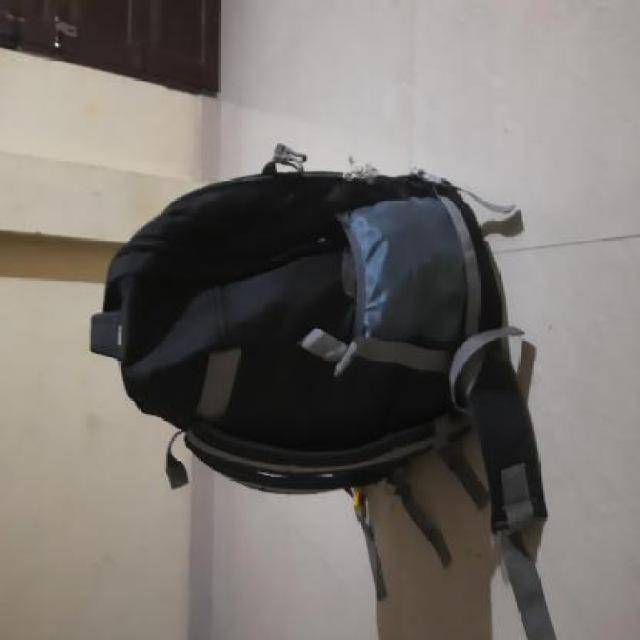backpack: (85, 140, 537, 502)
